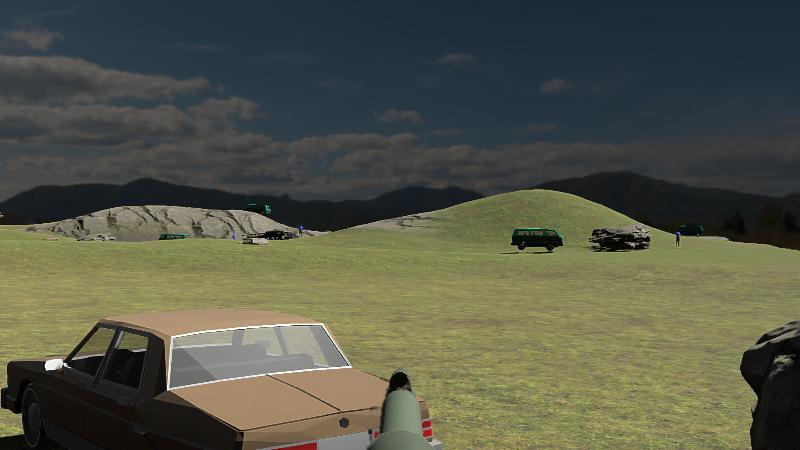Tank: (739, 252, 800, 450)
car: (2, 309, 439, 449), (511, 226, 563, 251)
